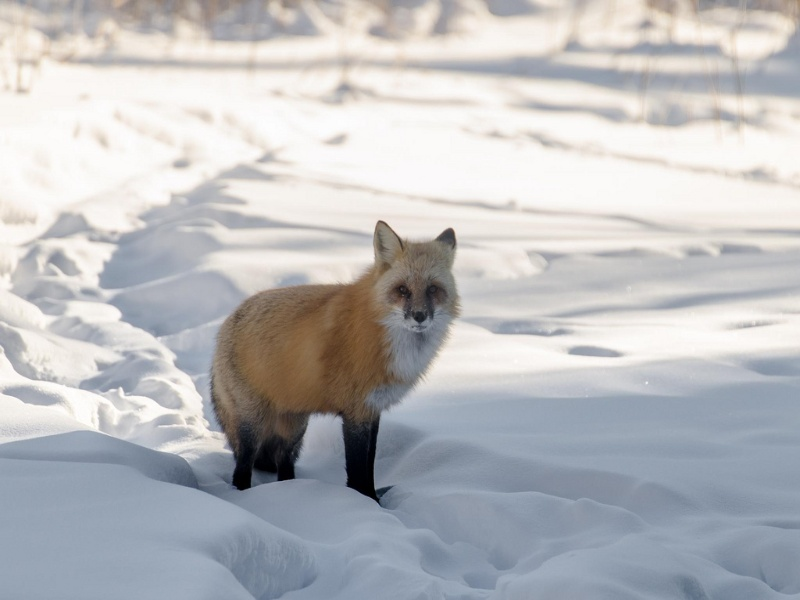fox: (206, 219, 464, 509)
